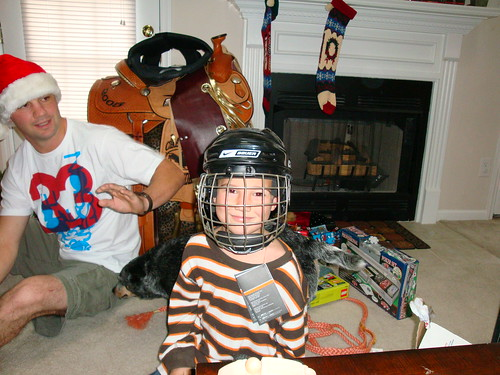helmet: (201, 118, 292, 175)
